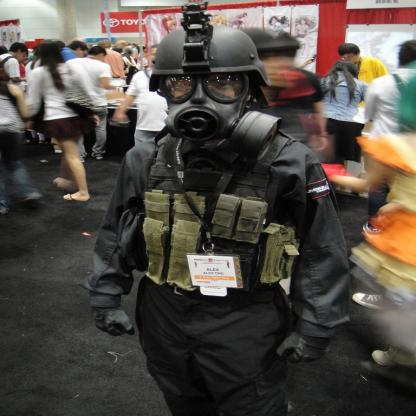Helmet: (140, 13, 276, 142), (240, 26, 301, 58)
